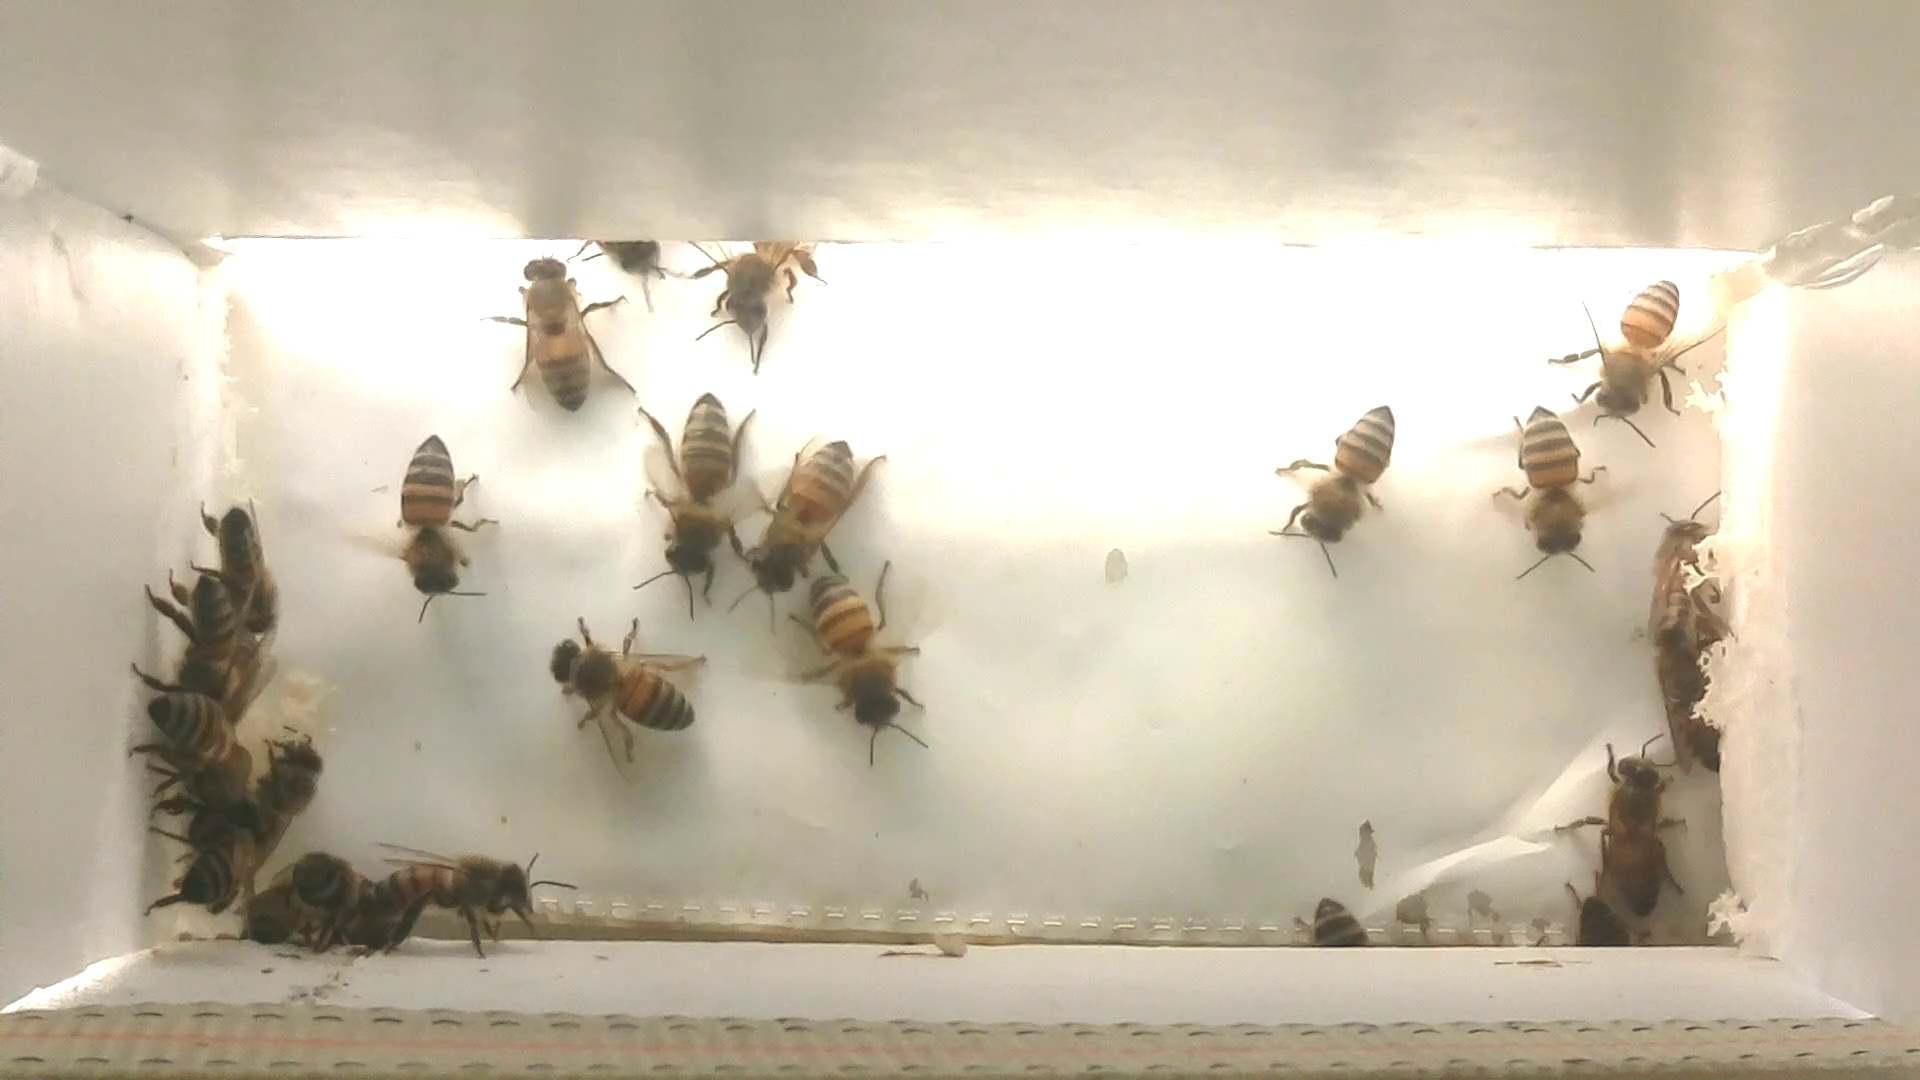bee: (765, 545, 959, 771), (716, 401, 895, 618), (1251, 373, 1419, 589), (351, 419, 520, 632), (535, 605, 717, 785), (1556, 253, 1705, 450), (479, 251, 651, 414), (1480, 392, 1615, 596), (633, 376, 752, 604), (1573, 727, 1705, 924), (335, 840, 570, 951), (684, 214, 833, 375), (113, 665, 253, 798), (1638, 491, 1739, 673), (264, 823, 396, 953), (1648, 629, 1749, 791), (200, 483, 299, 638), (136, 800, 264, 920), (153, 563, 270, 688), (241, 717, 340, 851), (571, 222, 684, 310), (1553, 881, 1648, 961), (1296, 886, 1383, 955)
